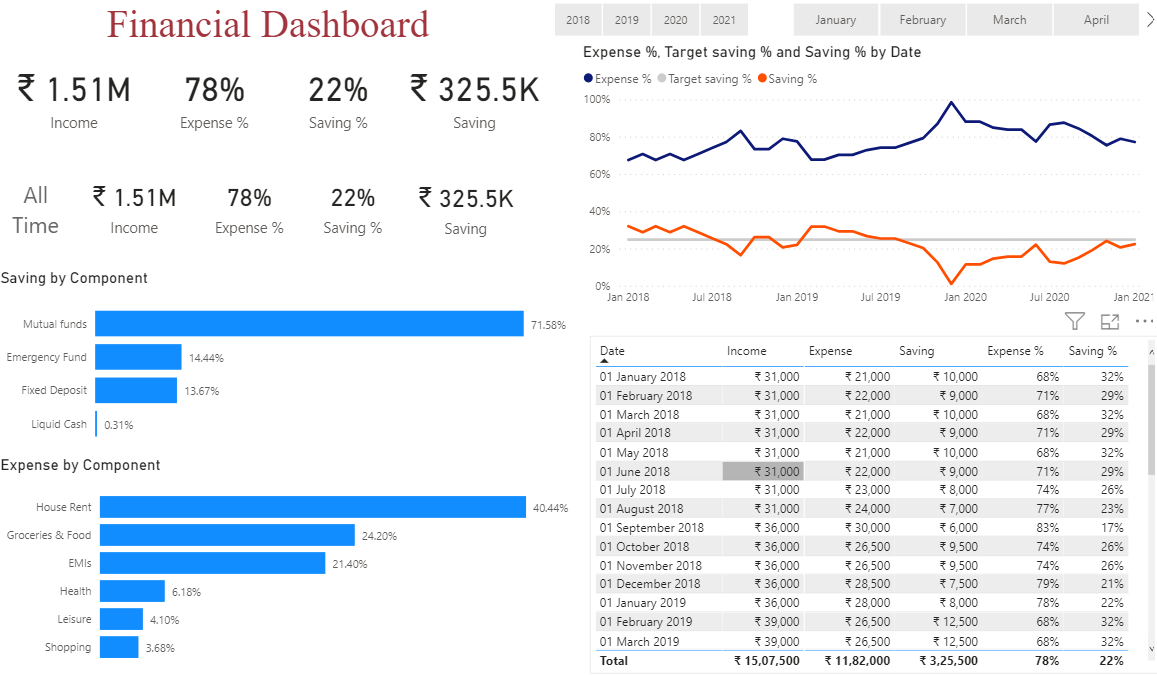

What the dashboard file says about the page in this screenshot:
{"tool":"powerbi","page":{"name":"Financial Analysis","canvas":[1280,745],"ordinal":0},"visuals":[{"type":"textbox","box":[9.6,0,578.2,63.2],"z":0},{"type":"card","fields":{"Values":["Created Table.Income"]},"box":[0,63.7,171.7,92],"z":1000},{"type":"card","fields":{"Values":["Created Table.Expense %"]},"box":[171.7,63.7,136,92],"z":2000},{"type":"card","fields":{"Values":["Created Table.Saving %"]},"box":[307.6,63.7,137.3,92],"z":3000},{"type":"card","fields":{"Values":["Created Table.Saving"]},"box":[445,63.7,162.1,92],"z":4000},{"type":"slicer","fields":{"Values":["FinData.Date.Variation.Date Hierarchy.Year"]},"box":[587.8,0,262.3,49.4],"z":5000},{"type":"slicer","fields":{"Values":["FinData.Date.Variation.Date Hierarchy.Month"]},"box":[850.1,0,429.9,49.4],"z":6000},{"type":"clusteredBarChart","title":"Expense by Component","fields":{"Category":["FinData.Component"],"Y":["Created Table.Expense"]},"box":[0,504,640,240.3],"z":7000},{"type":"card","fields":{"Values":["Created Table.Income"]},"box":[86.5,184.6,130.5,92],"z":8000},{"type":"card","fields":{"Values":["Created Table.Expense %"]},"box":[217,184.6,122.2,92],"z":9000},{"type":"card","fields":{"Values":["Created Table.Saving %"]},"box":[339.2,184.6,105.8,92],"z":10000},{"type":"card","fields":{"Values":["Created Table.Saving"]},"box":[445,185.4,142.8,90.6],"z":11000},{"type":"textbox","box":[0,196.9,86.5,90.6],"z":12000},{"type":"clusteredBarChart","title":"Saving by Component","fields":{"Category":["FinData.Component"],"Y":["Created Table.Saving"]},"box":[0,298,640,206],"z":13000},{"type":"lineChart","fields":{"Category":["FinData.Date"],"Y":["Created Table.Expense %","Created Table.Target saving %","Created Table.Saving %"]},"box":[640,49.4,640,299.4],"z":14000},{"type":"tableEx","fields":{"Values":["FinData.Date","Created Table.Income","Created Table.Expense","Created Table.Saving","Created Table.Expense %","Created Table.Saving %"]},"box":[652.4,372.2,627.6,370.8],"z":15000}]}

Visuals, with their boxes in screenshot pixels (x1, y1, x2, y2), scaled from the page's 1280x745 canvas onto the 1157x675 screenshot:
textbox: bbox(9, 0, 531, 57)
card - Created Table.Income: bbox(0, 58, 155, 141)
card - Created Table.Expense %: bbox(155, 58, 278, 141)
card - Created Table.Saving %: bbox(278, 58, 402, 141)
card - Created Table.Saving: bbox(402, 58, 549, 141)
slicer - FinData.Date.Variation.Date Hierarchy.Year: bbox(531, 0, 768, 45)
slicer - FinData.Date.Variation.Date Hierarchy.Month: bbox(768, 0, 1156, 45)
"Expense by Component" clusteredBarChart: bbox(0, 457, 578, 674)
card - Created Table.Income: bbox(78, 167, 196, 251)
card - Created Table.Expense %: bbox(196, 167, 307, 251)
card - Created Table.Saving %: bbox(307, 167, 402, 251)
card - Created Table.Saving: bbox(402, 168, 531, 250)
textbox: bbox(0, 178, 78, 260)
"Saving by Component" clusteredBarChart: bbox(0, 270, 578, 457)
lineChart - FinData.Date x Created Table.Expense %: bbox(578, 45, 1156, 316)
tableEx - FinData.Date x Created Table.Income: bbox(590, 337, 1156, 673)
